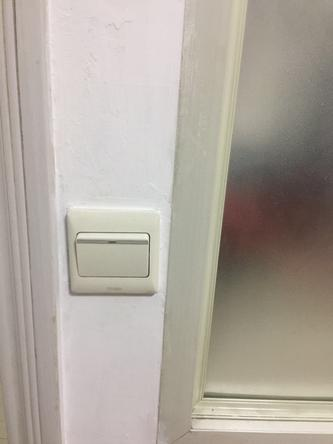switch: (73, 226, 157, 285)
